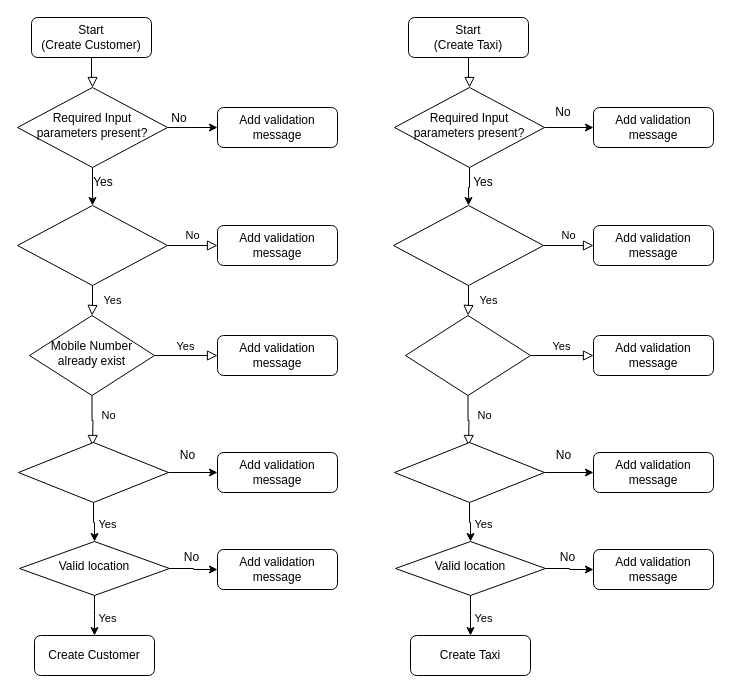
This 731x693 diagram has some shape labels left out. The shapes that lost their labels are listed below. From the top down, each one's centre as x and y in pixels, then its label:
At point (92, 245): "Valid phone number format?".
At point (468, 245): "Valid Taxi Number?".
At point (467, 355): "Taxi Number already exist".
At point (93, 472): "Valid preference type".
At point (469, 472): "Valid taxi type".
